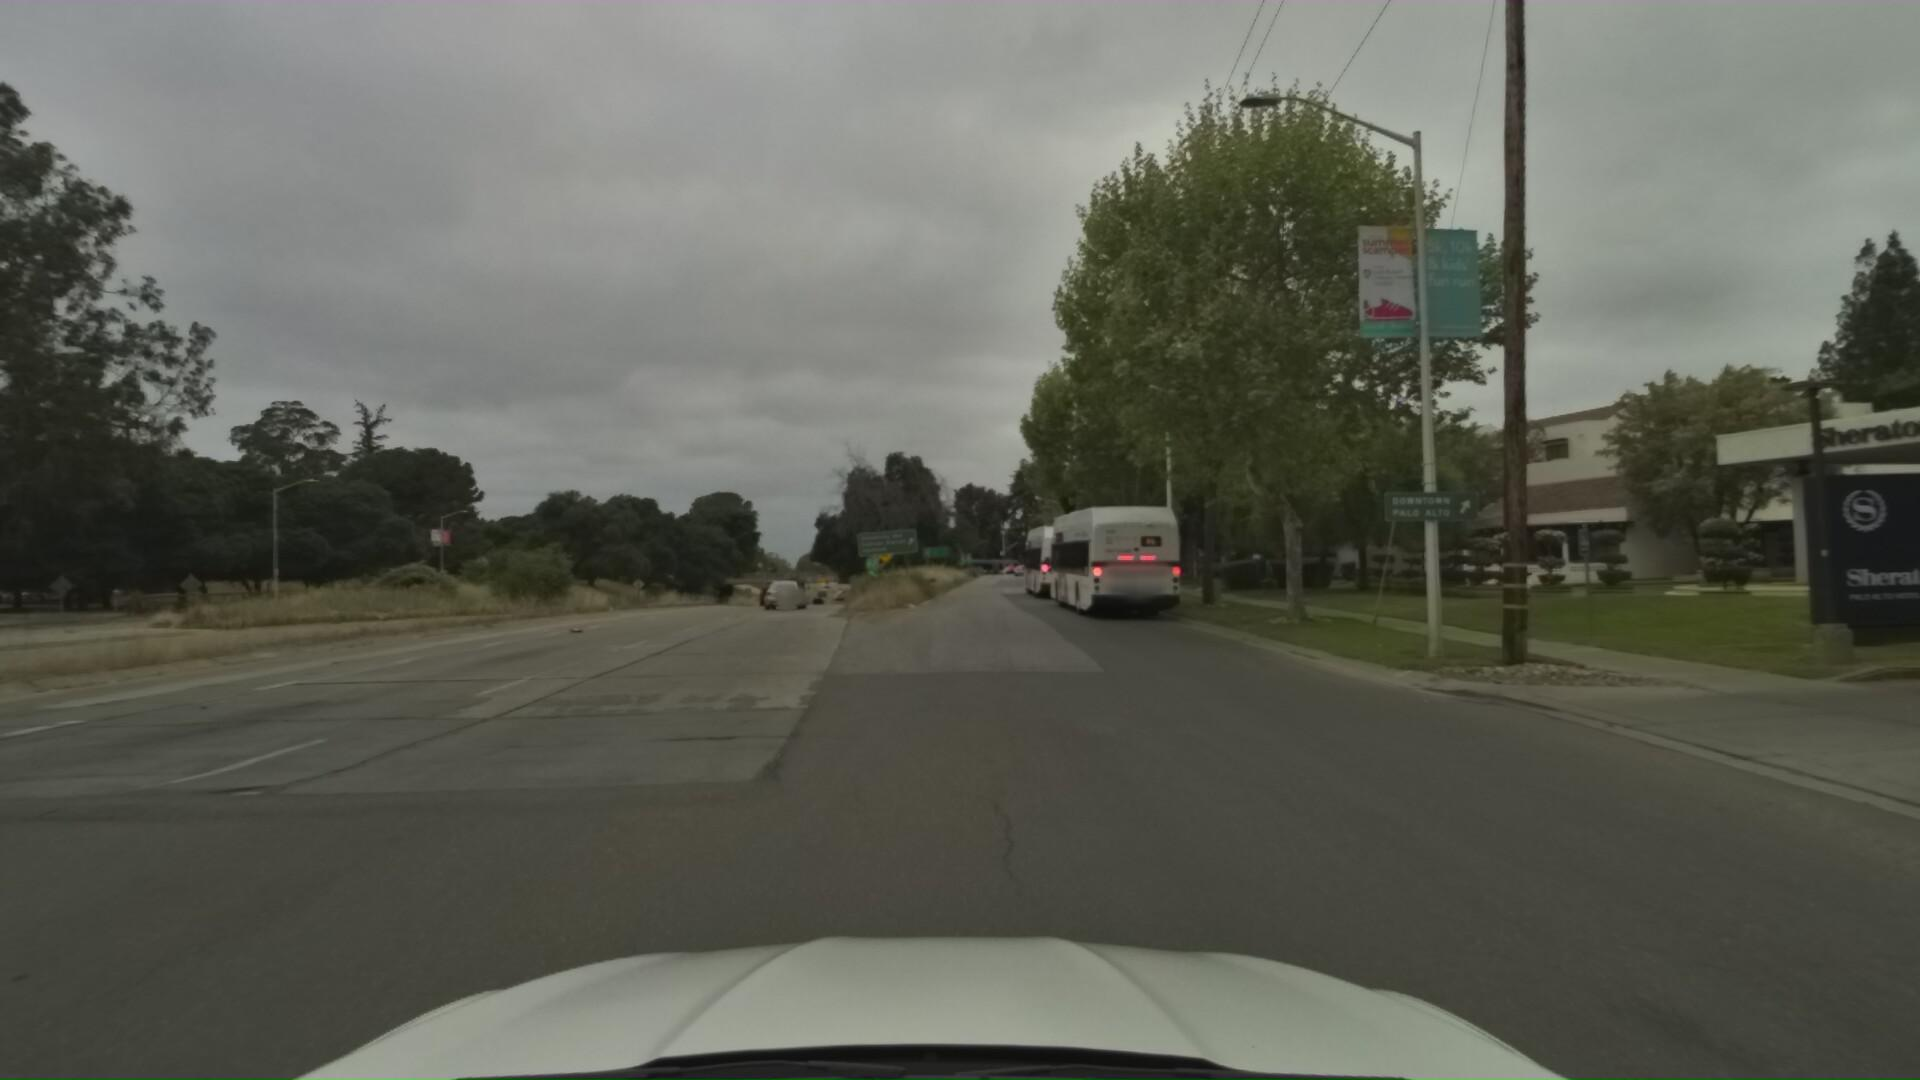bus: (1040, 487, 1197, 622), (1018, 512, 1106, 600)
car: (762, 564, 812, 605), (754, 571, 793, 603)
